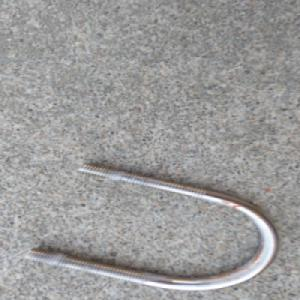ClampPart: (21, 161, 282, 292)
